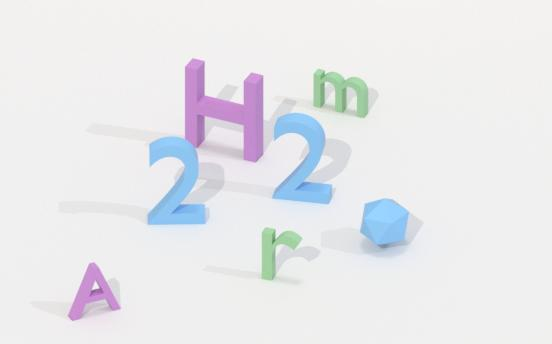2: (142, 135, 212, 231), (269, 111, 336, 205)
A-hoa: (65, 258, 127, 324)
H-hoa: (177, 53, 268, 167)
R: (260, 224, 304, 285)
m: (312, 64, 370, 121), (359, 197, 411, 251)
